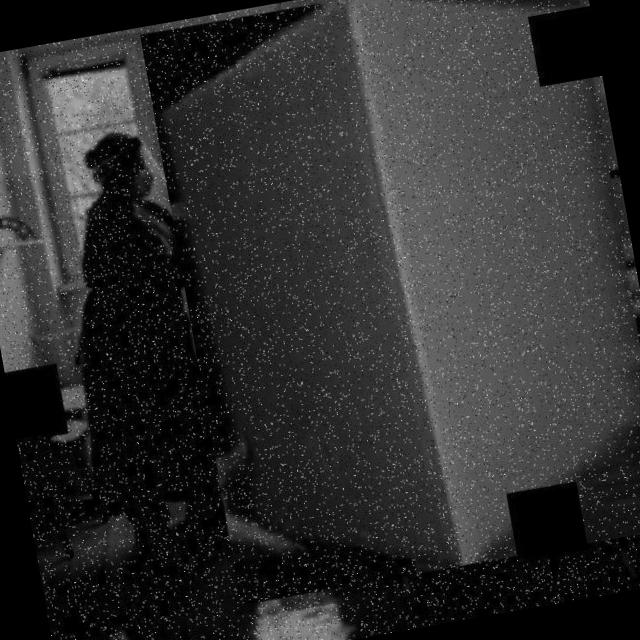box: (133, 0, 640, 615)
